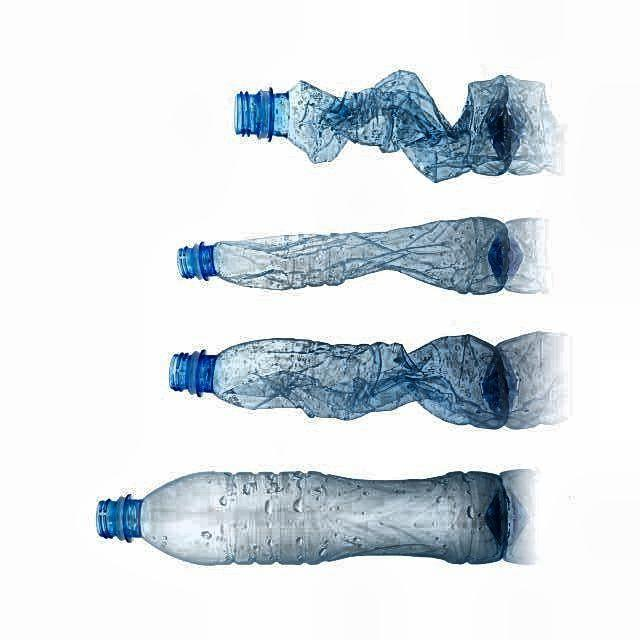plastic: (96, 471, 526, 564), (236, 71, 525, 181), (170, 335, 510, 428), (180, 218, 511, 294)
